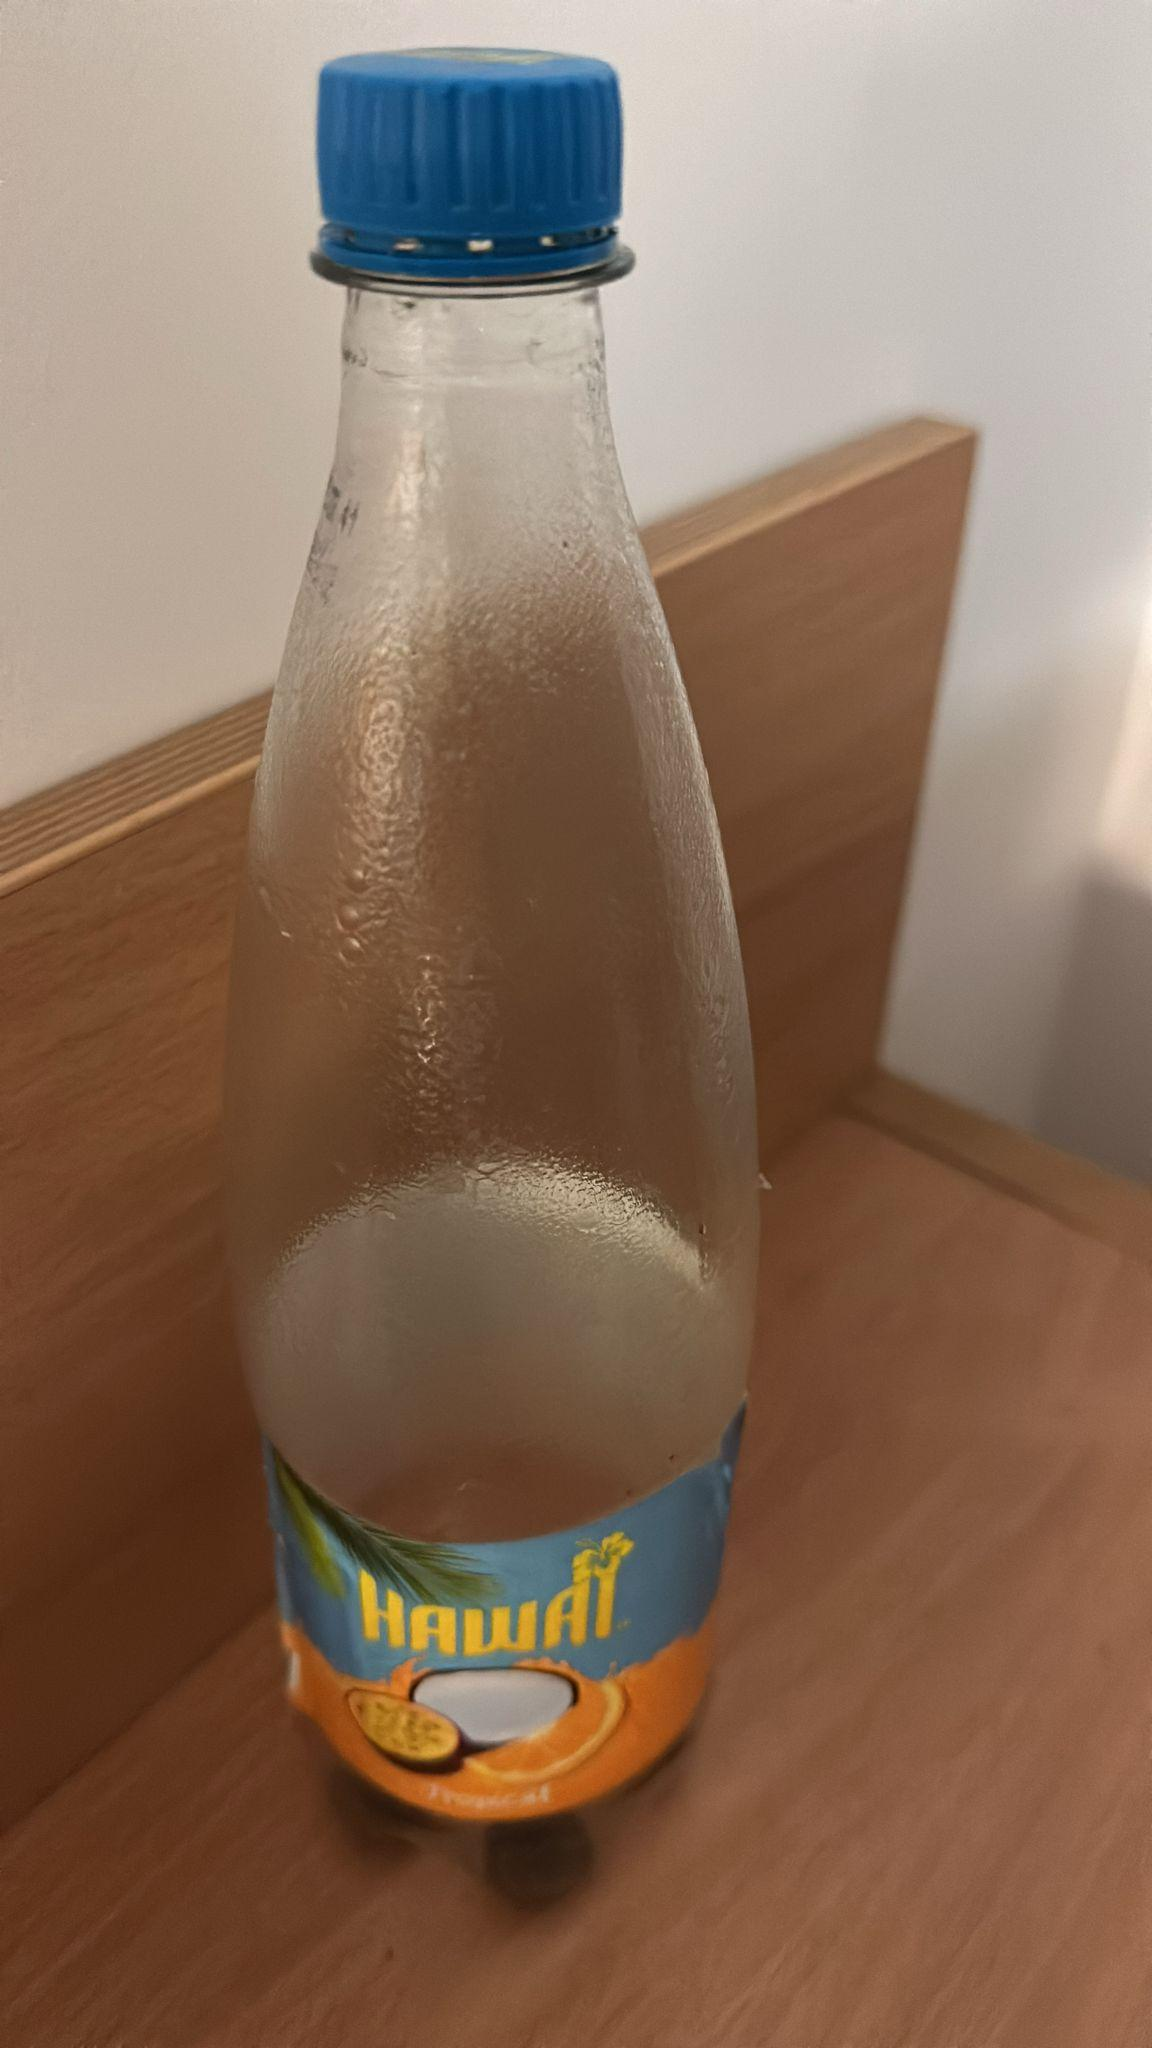PET: (219, 44, 767, 1829)
juice: (219, 44, 767, 1829)
plastic: (219, 44, 767, 1829)
